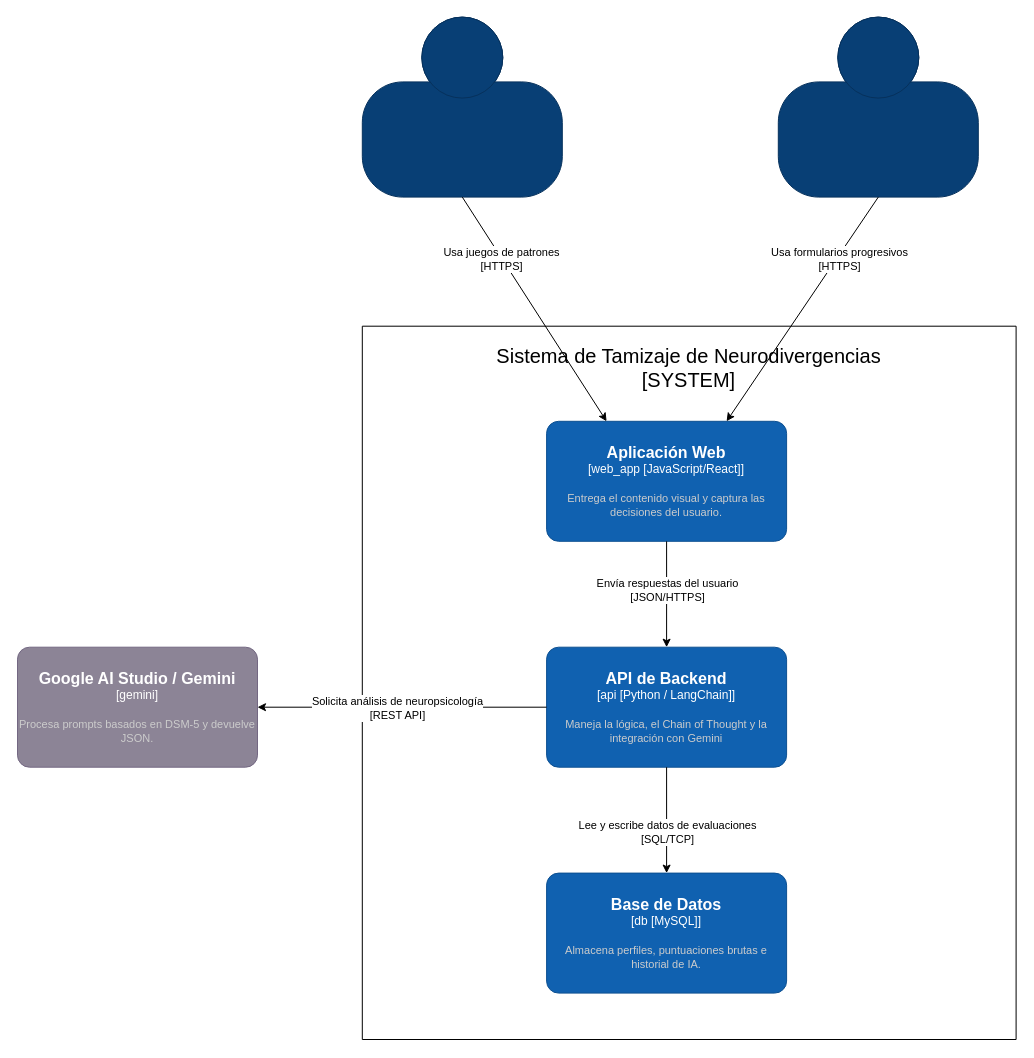
Some shapes in this 1034 by 1058 pixel diagram are drawn without their labels. Each missing label, with the centre of its shape:
"Usuario Adulto [Person] Utiliza formularios progresivos y empáticos." goes at point 877,106.
"Usuario Infantil [Person] Interactúa con juegos y narrativa visual." goes at point 461,106.
